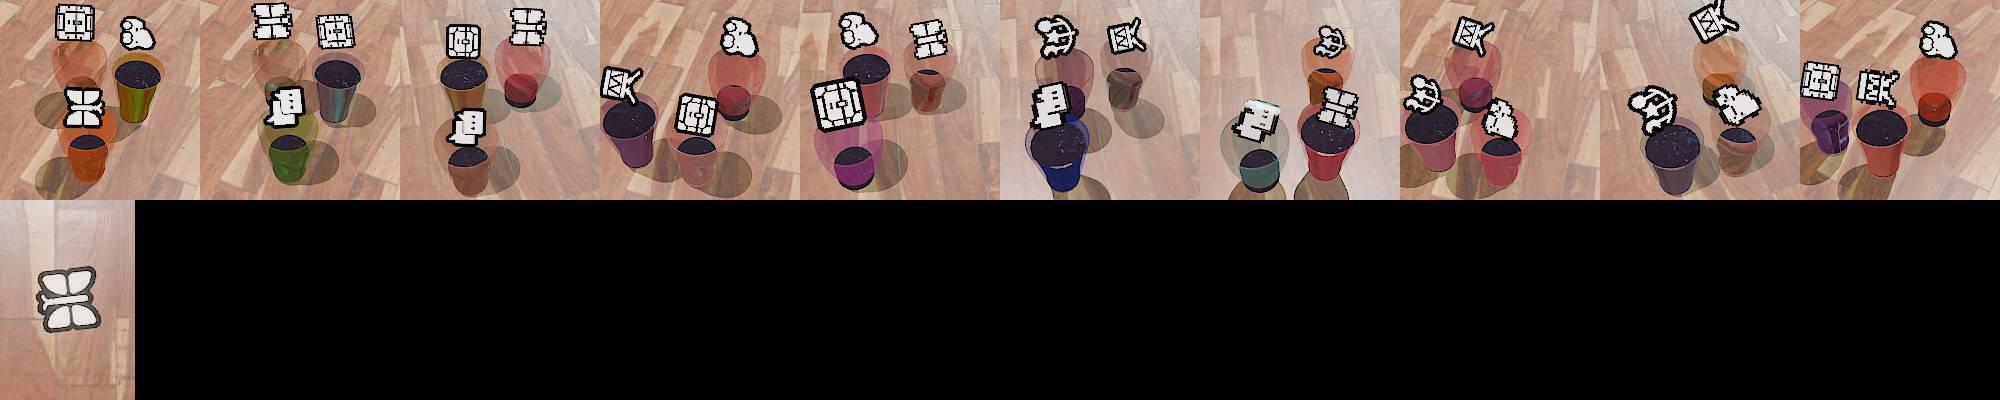icon: (34, 266, 102, 332), (811, 78, 867, 132), (1628, 86, 1677, 136), (1235, 95, 1285, 143), (1712, 83, 1763, 127), (1689, 0, 1737, 44), (1030, 81, 1072, 130), (675, 92, 719, 137), (1317, 83, 1361, 128), (63, 85, 106, 129), (908, 17, 951, 61), (1034, 14, 1077, 57), (1854, 67, 1900, 107), (600, 63, 644, 104), (263, 85, 305, 127), (1800, 60, 1842, 102), (1451, 16, 1494, 57), (719, 16, 760, 58), (1106, 16, 1148, 56), (1403, 73, 1443, 114), (55, 3, 96, 43), (251, 2, 293, 41), (838, 12, 879, 51), (447, 106, 486, 146), (315, 13, 355, 52), (508, 7, 547, 47), (1919, 20, 1958, 59), (1482, 98, 1518, 138), (445, 23, 482, 60), (119, 15, 156, 51), (1314, 24, 1348, 59)
